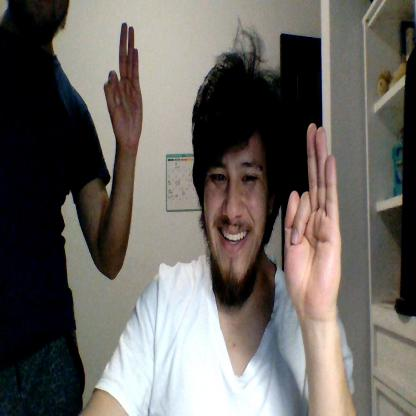F: (285, 122, 341, 314), (105, 22, 143, 146)
